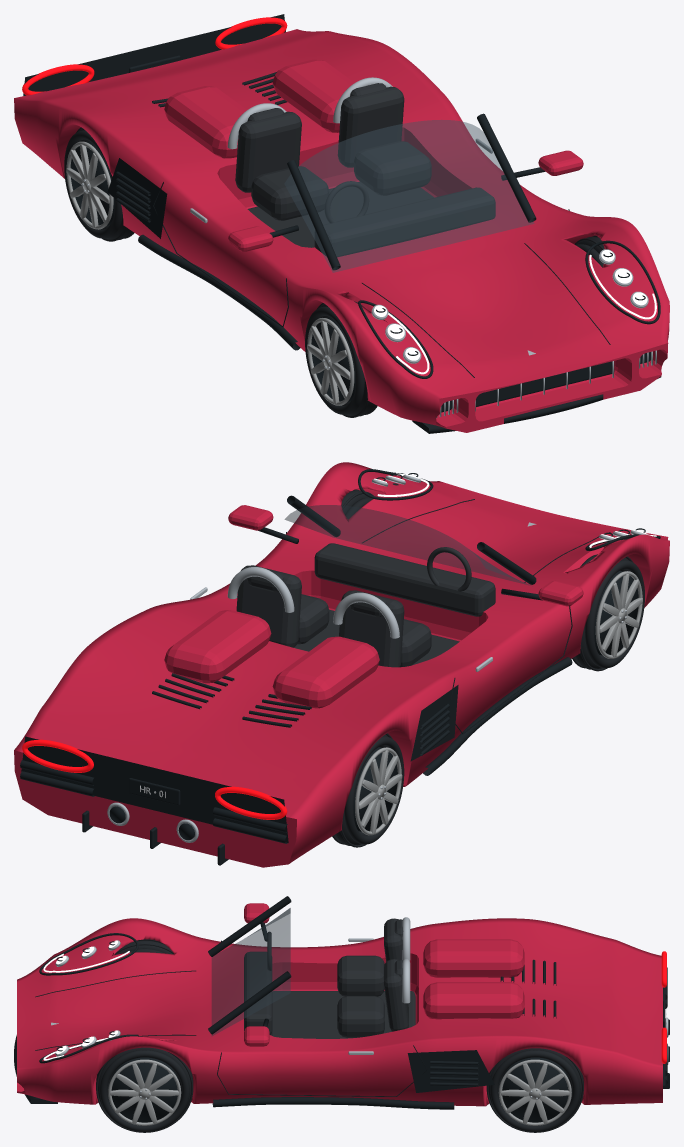
File: spyder.glb
The picture shows the model from 3 angles, top to bottom: view 1: azimuth 30°, elevation 25°; view 2: azimuth 150°, elevation 25°; view 3: azimuth 270°, elevation 25°; orthographic projection. The views are drawn at different scales.
Parts seen in each view (by area): view 1: Body surfaces, WheelFrontR surfaces, WheelRearR surfaces; view 2: Body surfaces, WheelFrontR surfaces, WheelRearR surfaces; view 3: Body surfaces, WheelFrontL surfaces, WheelRearL surfaces, WheelFrontR surfaces.
Part boxes in pixels (box(x1,y1,x2,y2)): Body surfaces: box(14, 14, 669, 433); WheelFrontR surfaces: box(305, 301, 377, 417); WheelRearR surfaces: box(64, 127, 134, 241); Body surfaces: box(14, 462, 669, 867); WheelFrontR surfaces: box(572, 554, 644, 671); WheelRearR surfaces: box(332, 733, 404, 847); Body surfaces: box(14, 896, 669, 1109); WheelFrontL surfaces: box(96, 1047, 193, 1132); WheelRearL surfaces: box(486, 1048, 583, 1132); WheelFrontR surfaces: box(114, 939, 173, 954).
Bounding box in the file's own units: 2.29 × 1.19 × 4.65.
